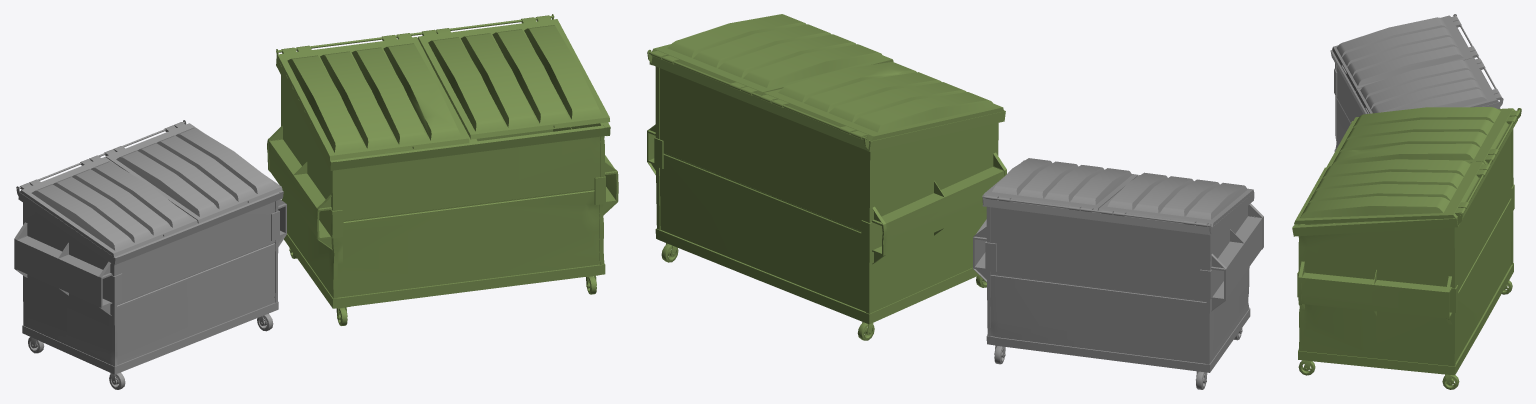
File: dumpster.fbx
3 views of the same model, side by side, from view 1: azimuth 30°, elevation 25°; view 2: azimuth 150°, elevation 25°; view 3: azimuth 270°, elevation 25° (orthographic). The views are drawn at different scales.
Parts seen in each view (by area): view 1: 6Y, 4Y; view 2: 6Y, 4Y; view 3: 6Y, 4Y.
Boxes of the visible parts, <box> form: 6Y: <box>267,14,618,325</box>; 4Y: <box>14,120,286,389</box>; 6Y: <box>647,14,1006,340</box>; 4Y: <box>973,158,1263,389</box>; 6Y: <box>1292,107,1521,389</box>; 4Y: <box>1330,14,1503,151</box>.
Bounding box in the file's own units: 117 × 41.36 × 46.93.
